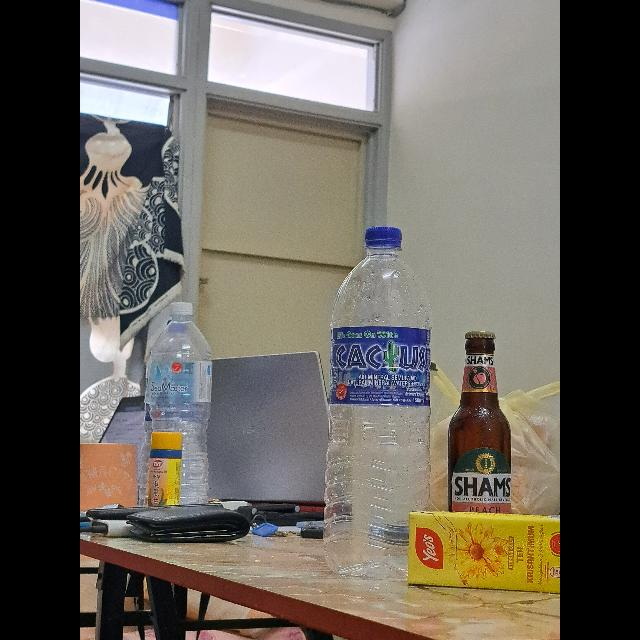caixinha: (412, 506, 560, 594)
garrafa de vidro: (446, 330, 514, 540)
garrafa plástica: (330, 252, 434, 580), (146, 321, 216, 515)
tampa plástica: (367, 224, 401, 252), (172, 298, 192, 316)
